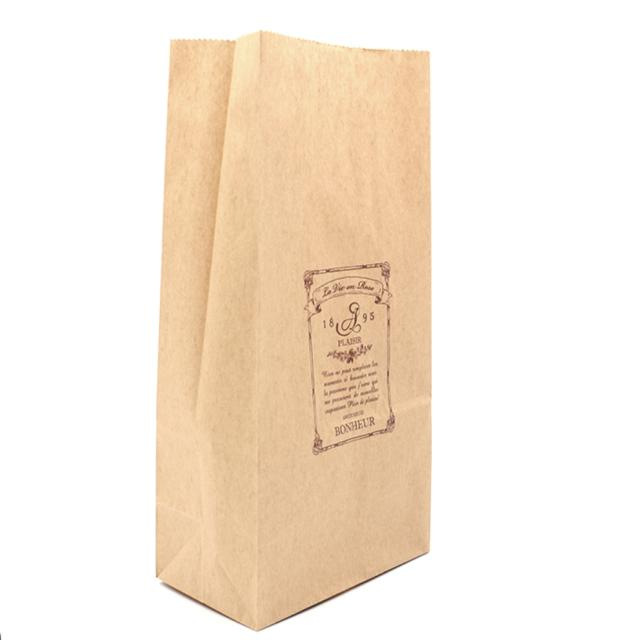biodegradable: (122, 19, 468, 633)
